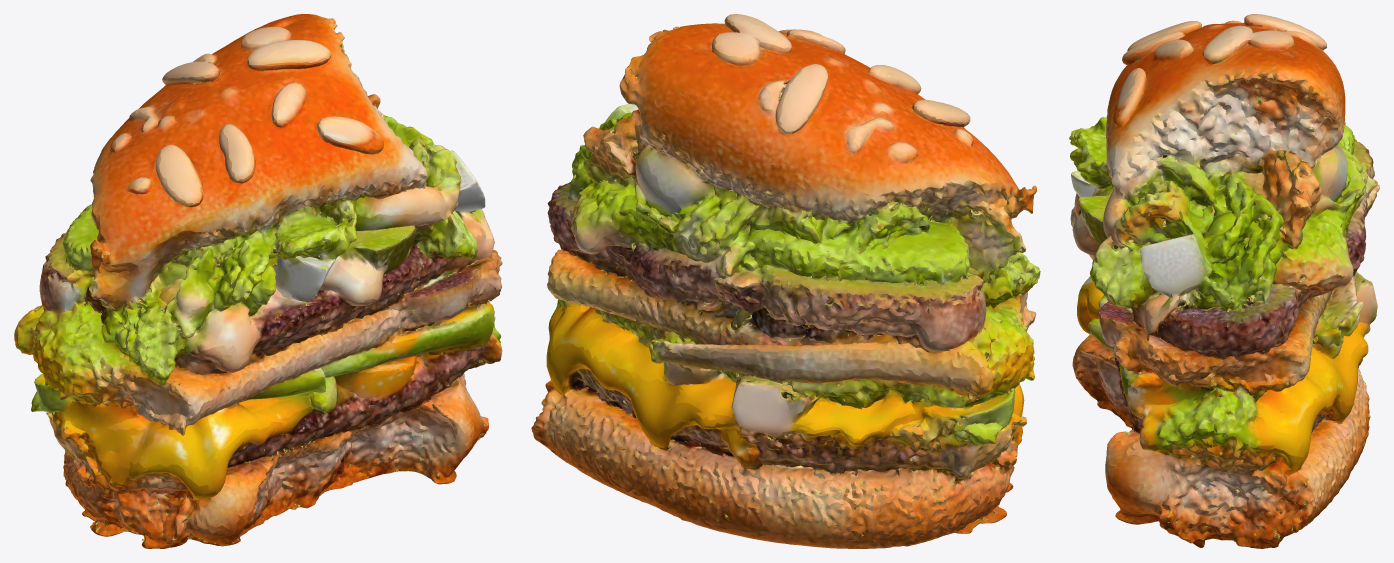
Rendered from burger-3.glb.
3 views of the same model, side by side, from view 1: azimuth 30°, elevation 25°; view 2: azimuth 150°, elevation 25°; view 3: azimuth 270°, elevation 25° (orthographic). The views are drawn at different scales.
Visible parts, largest first — view 1: geometry_0; view 2: geometry_0; view 3: geometry_0.
Part boxes in pixels (left/top/right/bottom): geometry_0: left=14, top=14, right=502, bottom=548; geometry_0: left=531, top=14, right=1040, bottom=548; geometry_0: left=1069, top=14, right=1379, bottom=548.
Bounding box in the file's own units: 0.1343 × 0.13 × 0.0821.
Materials: 1 (1 with a texture image).
